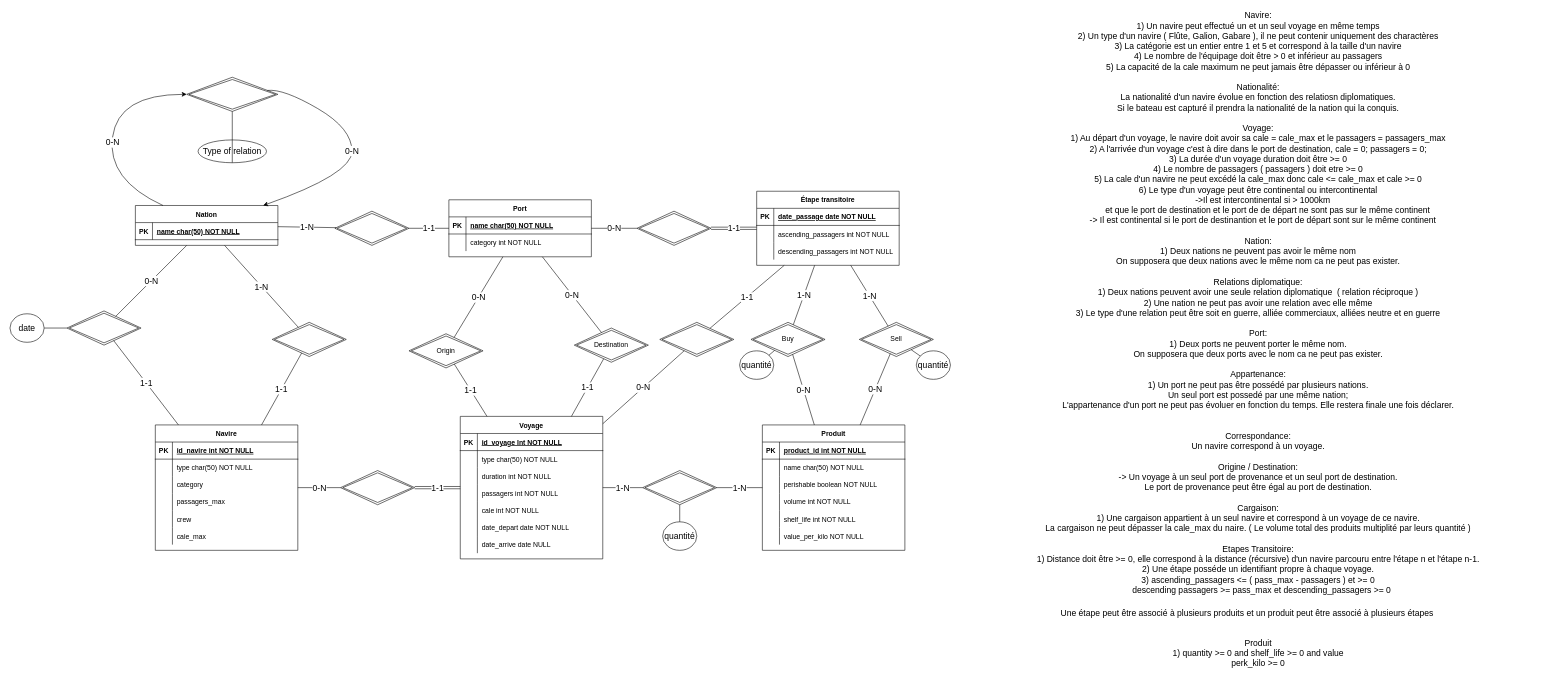
This 1542x685 diagram has some shape labels left out. Each missing label, with the centre of its shape:
"Capturation" goes at (x=103, y=327).
"Cargaison" goes at (x=679, y=487).
"Construct" goes at (x=696, y=339).
"Corresponding" goes at (x=377, y=487).
"diplomatics relations" goes at (x=232, y=94).
"Instance of" goes at (x=673, y=228).
"Membership" goes at (x=371, y=228).
"Nationality" goes at (x=309, y=339).
